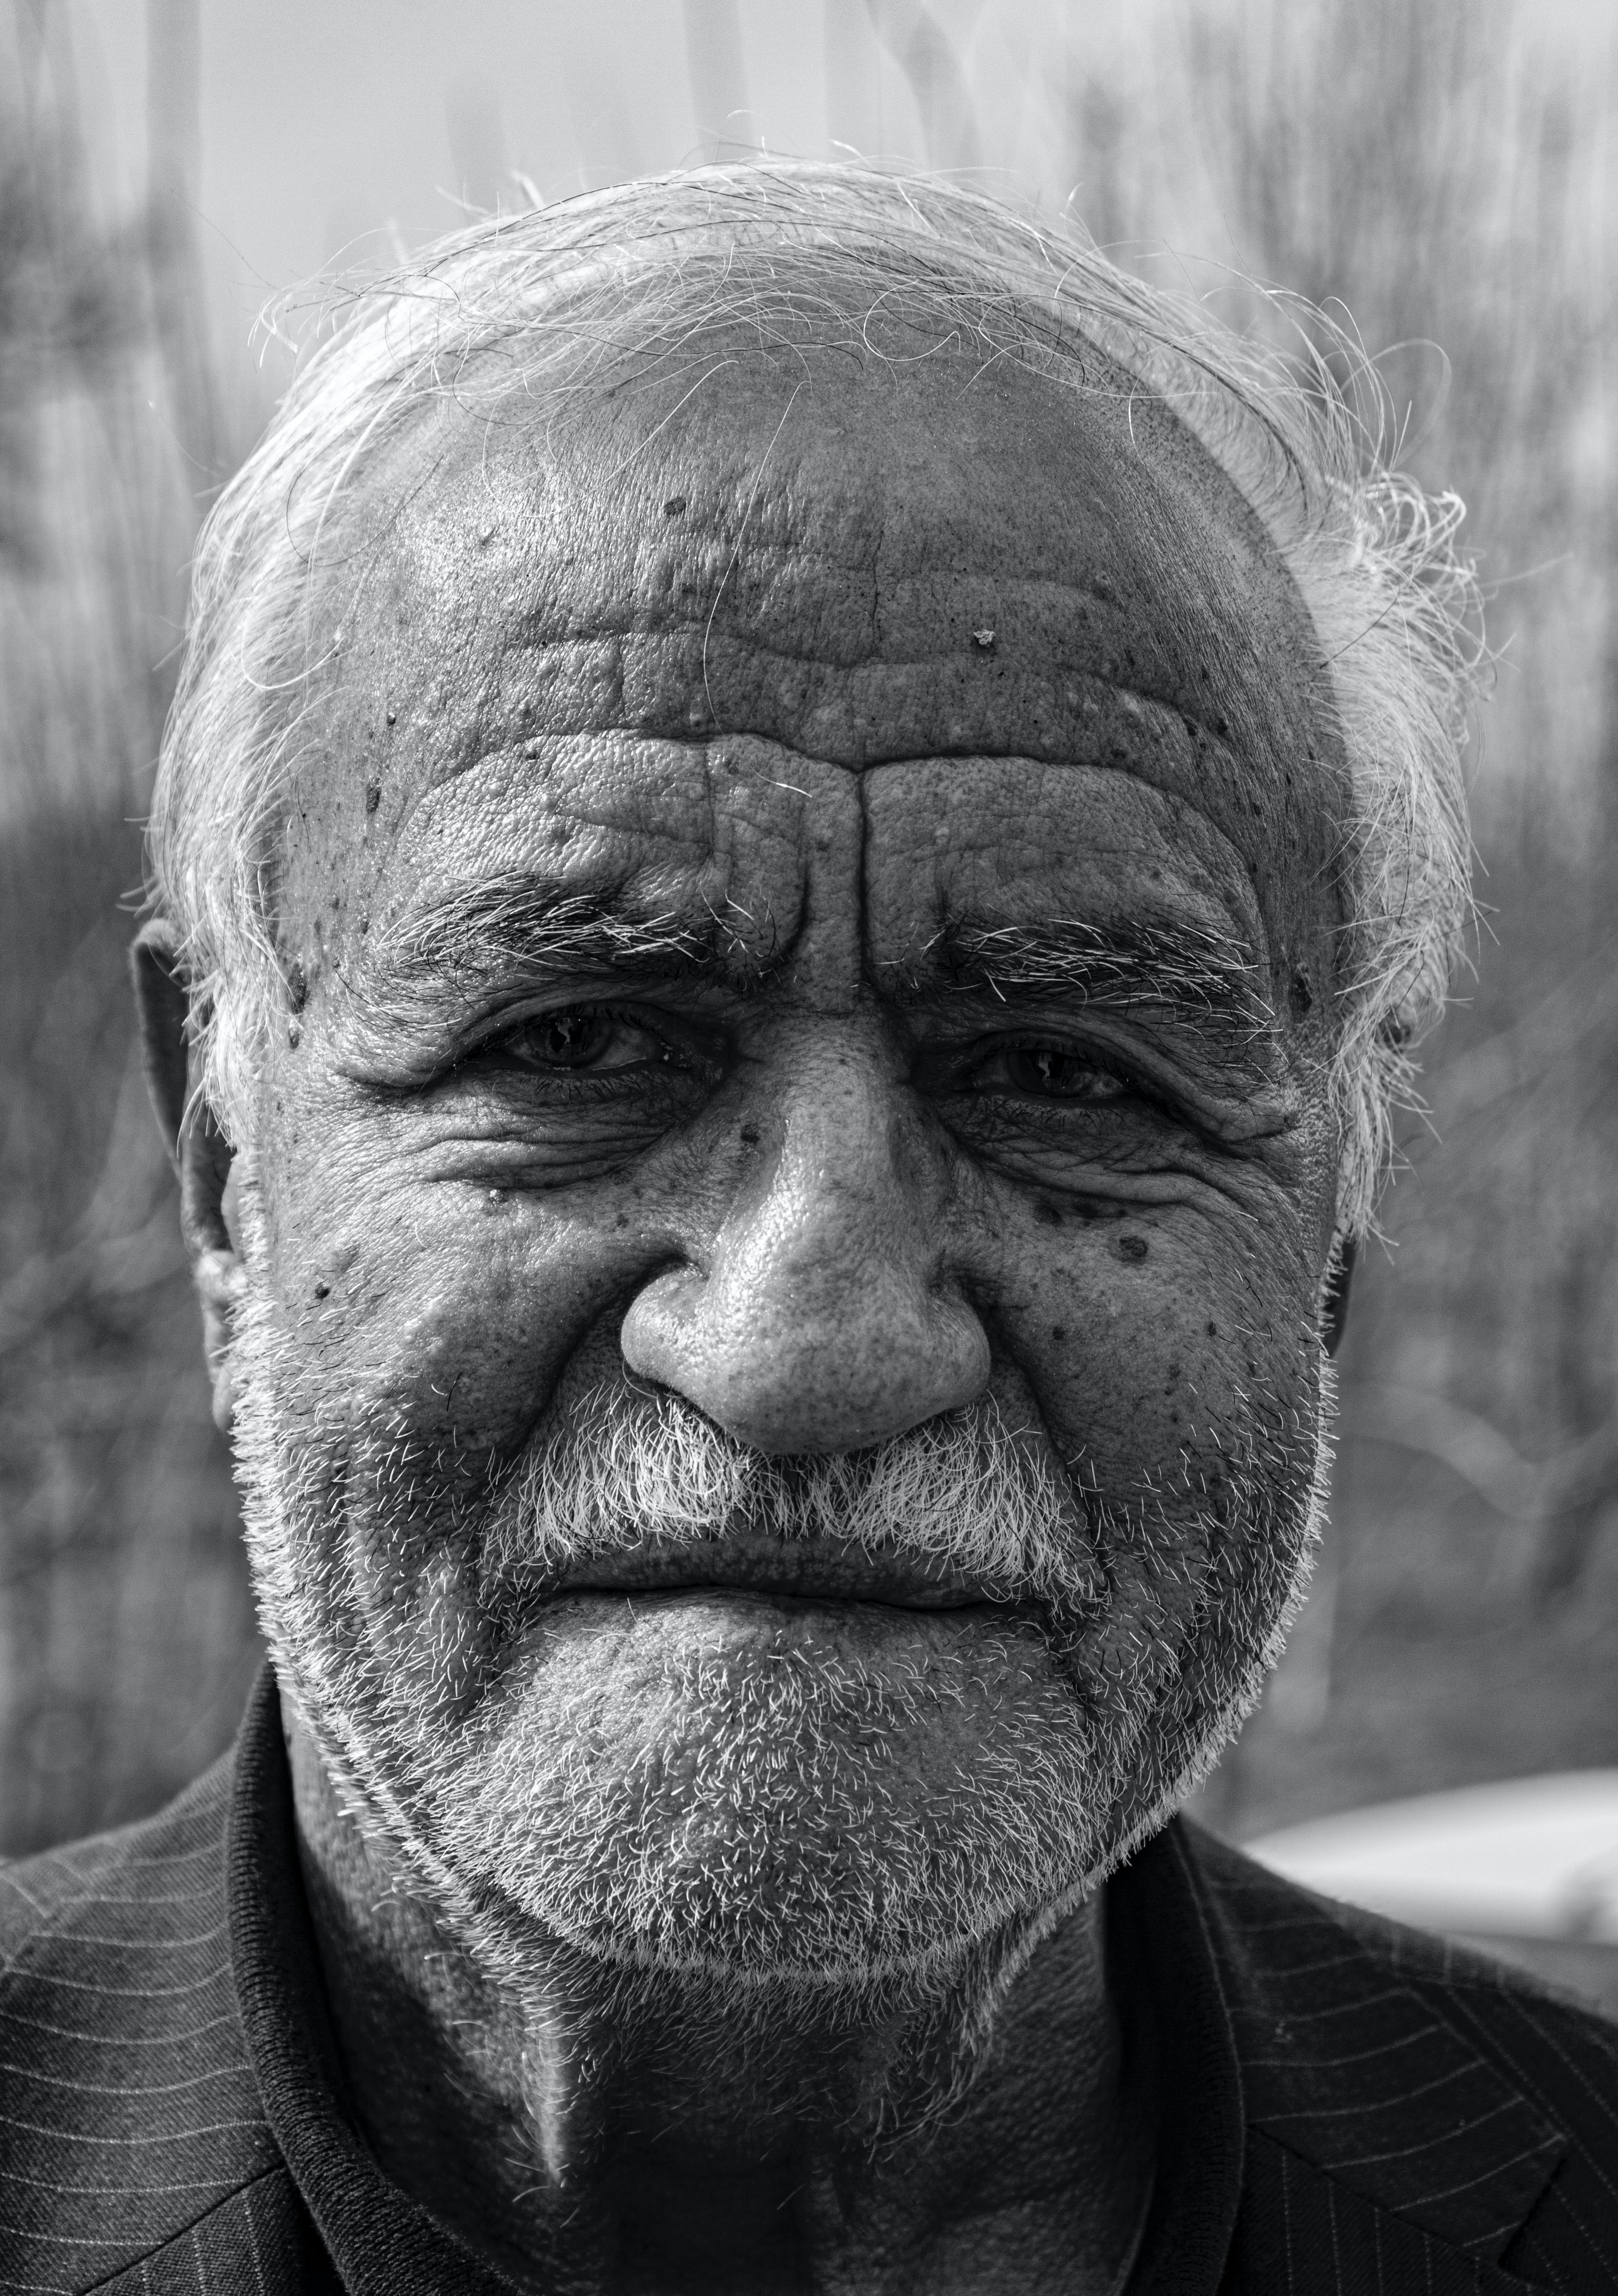DARK_SPOTS: (1108, 1226, 1150, 1268), (967, 622, 1003, 660), (741, 1119, 769, 1159), (485, 1187, 518, 1217), (313, 1275, 345, 1305), (1052, 1321, 1066, 1345), (380, 706, 403, 716)
WRINKLES: (468, 709, 1194, 792), (501, 616, 912, 671), (790, 816, 881, 998)
